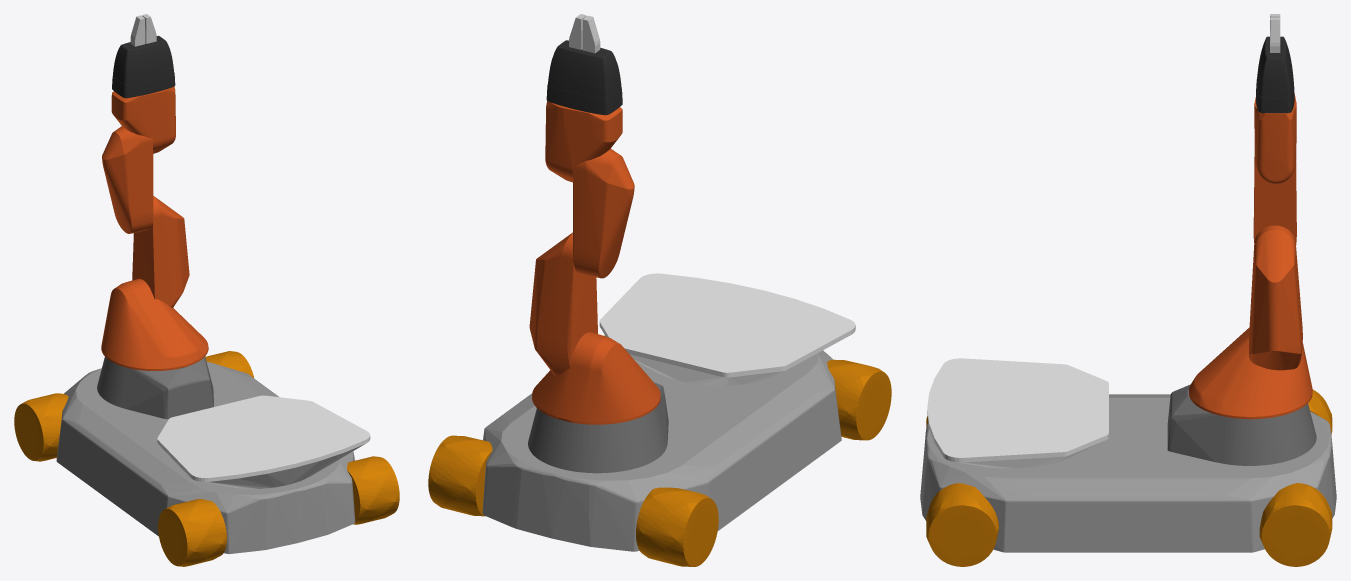
File: youbot_openrave_draft.dae
3 renders of one model, left to right at view 1: azimuth 30°, elevation 25°; view 2: azimuth 150°, elevation 25°; view 3: azimuth 270°, elevation 25°, orthographic. The views are drawn at different scales.
Parts seen in each view (by area): view 1: base, arm1, arm3, arm2, arm5, arm4; view 2: base, arm1, arm2, arm3, arm5, arm4; view 3: base, arm2, arm1, arm4, arm5, arm3.
Boxes of the visible parts, bbox=[...] form: base: bbox=[14, 351, 399, 566]; arm1: bbox=[101, 278, 208, 370]; arm3: bbox=[102, 126, 153, 233]; arm2: bbox=[132, 196, 189, 307]; arm5: bbox=[112, 35, 175, 98]; arm4: bbox=[111, 86, 175, 153]; base: bbox=[428, 273, 891, 566]; arm1: bbox=[532, 332, 660, 424]; arm2: bbox=[529, 232, 597, 376]; arm3: bbox=[573, 148, 634, 278]; arm5: bbox=[546, 40, 622, 115]; arm4: bbox=[545, 101, 622, 182]; base: bbox=[920, 358, 1336, 566]; arm2: bbox=[1249, 225, 1302, 370]; arm1: bbox=[1189, 327, 1312, 419]; arm4: bbox=[1254, 94, 1296, 183]; arm5: bbox=[1256, 36, 1294, 113]; arm3: bbox=[1253, 157, 1296, 244].
Bounding box in the file's own units: 389 × 570 × 743.
